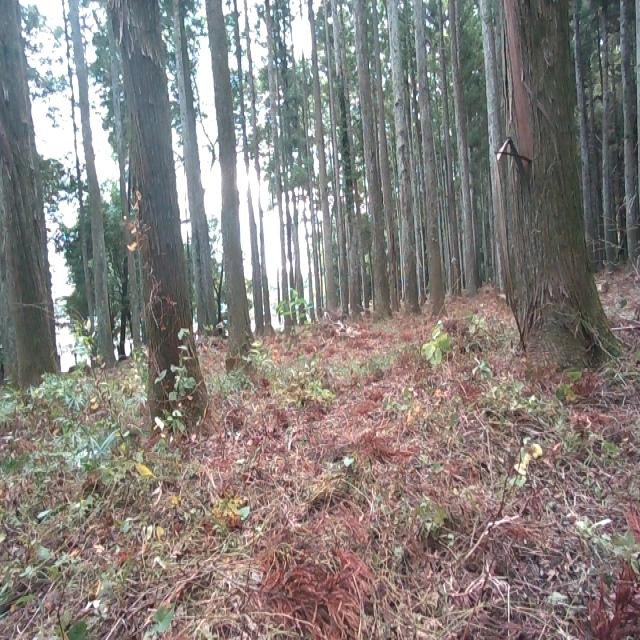tree: (494, 0, 620, 348), (111, 0, 210, 415), (0, 0, 53, 370), (203, 0, 254, 352), (347, 0, 393, 325), (410, 0, 448, 315)
